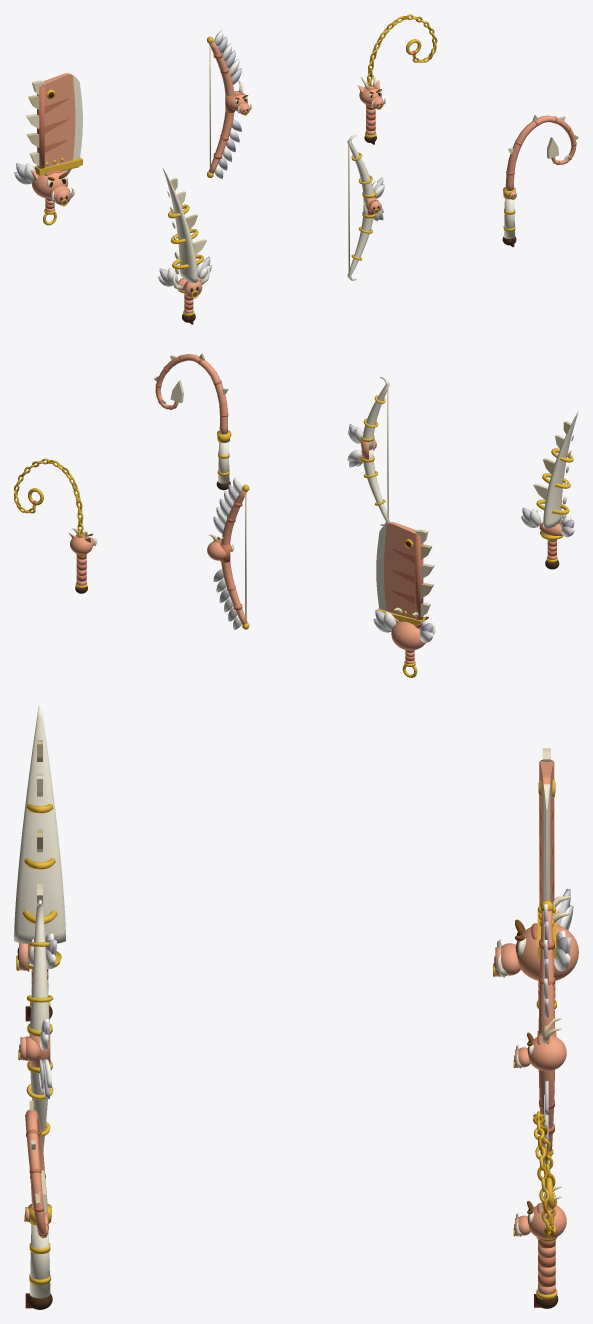
File: equipements-dcochon.glb
3 views of the same model, one above another, from view 1: azimuth 30°, elevation 25°; view 2: azimuth 150°, elevation 25°; view 3: azimuth 270°, elevation 25° (orthographic). The views are drawn at different scales.
Parts seen in each view (by area): view 1: lame.001, lame, laniere, arc.002, fil.006, dos, arc.001, tete, arc; view 2: lame.001, lame, laniere, arc.002, tete, fil.006, dos, arc.001, arc; view 3: lame, arc.002, arc, laniere, tete, lame.001, manche, tete.001, fil.006, tete.002.
Boxes of the visible parts, left/top/right/bottom form: lame.001: left=42, top=73, right=75, bottom=167; lame: left=163, top=168, right=197, bottom=282; laniere: left=505, top=115, right=576, bottom=190; arc.002: left=208, top=41, right=234, bottom=173; fil.006: left=73, top=75, right=82, bottom=159; dos: left=37, top=86, right=44, bottom=168; arc.001: left=347, top=205, right=373, bottom=280; tete: left=31, top=170, right=67, bottom=198; arc: left=347, top=135, right=373, bottom=205; lame.001: left=384, top=522, right=417, bottom=618; lame: left=543, top=410, right=578, bottom=528; laniere: left=155, top=354, right=227, bottom=434; arc.002: left=221, top=489, right=247, bottom=624; tete: left=391, top=621, right=425, bottom=650; fil.006: left=376, top=524, right=386, bottom=610; dos: left=415, top=535, right=423, bottom=619; arc.001: left=363, top=449, right=389, bottom=525; arc: left=363, top=377, right=389, bottom=449; lame: left=14, top=706, right=65, bottom=944; arc.002: left=538, top=910, right=554, bottom=1152; arc: left=30, top=899, right=49, bottom=1029; laniere: left=25, top=1110, right=48, bottom=1238; tete: left=515, top=924, right=578, bottom=980; lame.001: left=540, top=761, right=553, bottom=914; manche: left=29, top=1224, right=50, bottom=1298; tete.001: left=527, top=1035, right=566, bottom=1071; fil.006: left=543, top=784, right=550, bottom=900; tete.002: left=527, top=1204, right=566, bottom=1239.
Size of the model in its own units: 5.22 by 1.97 by 3.34.
